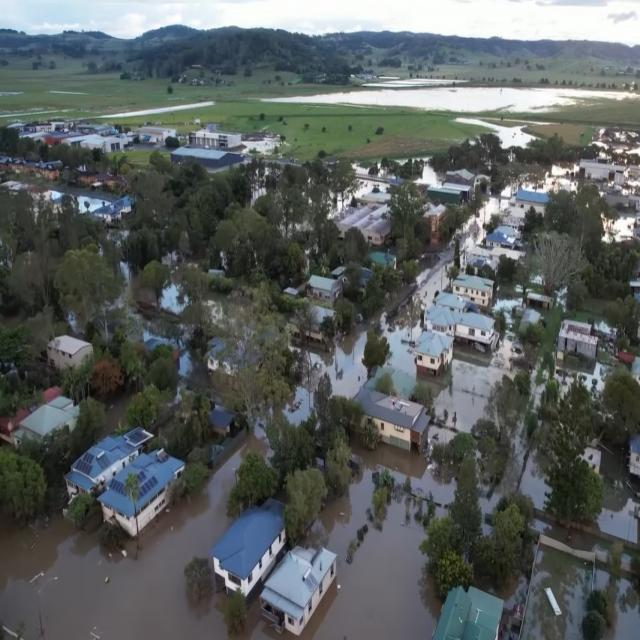flood: (0, 425, 457, 640), (284, 181, 541, 446), (480, 411, 640, 640), (241, 80, 640, 148), (110, 250, 259, 390), (39, 188, 134, 224), (98, 101, 215, 118), (240, 134, 301, 166), (350, 164, 404, 200), (420, 164, 440, 186), (251, 182, 264, 200)
house: (92, 444, 190, 553), (206, 503, 286, 612), (255, 538, 336, 640), (10, 393, 77, 468), (429, 580, 506, 638), (70, 436, 144, 492), (370, 390, 428, 458), (48, 334, 96, 391), (558, 316, 602, 364), (412, 330, 454, 374), (449, 268, 494, 308), (303, 271, 342, 313), (458, 312, 495, 344), (196, 130, 240, 151)
